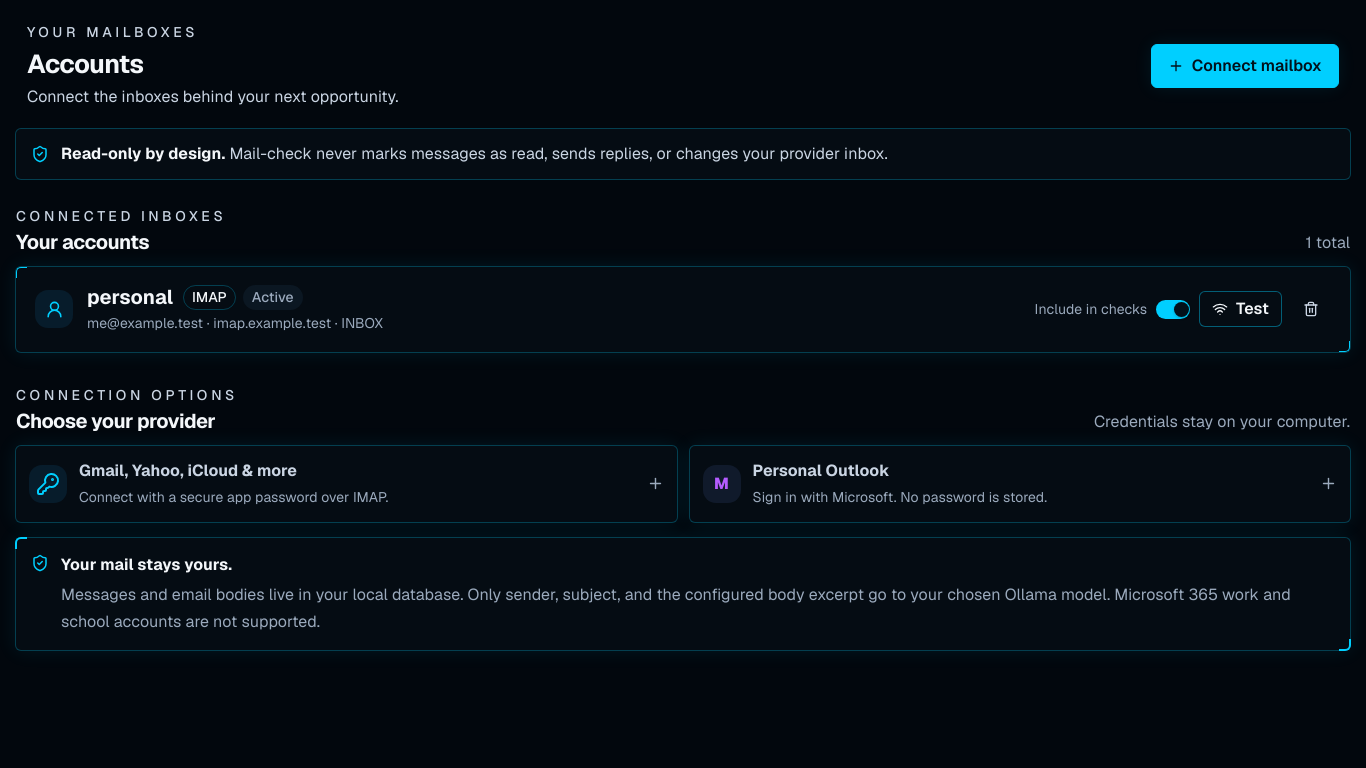
Test: updates inclusion state through the existing account toggle API
Click the switch named "Include personal in checks" at (1173, 309), box [1156, 300, 1190, 319]
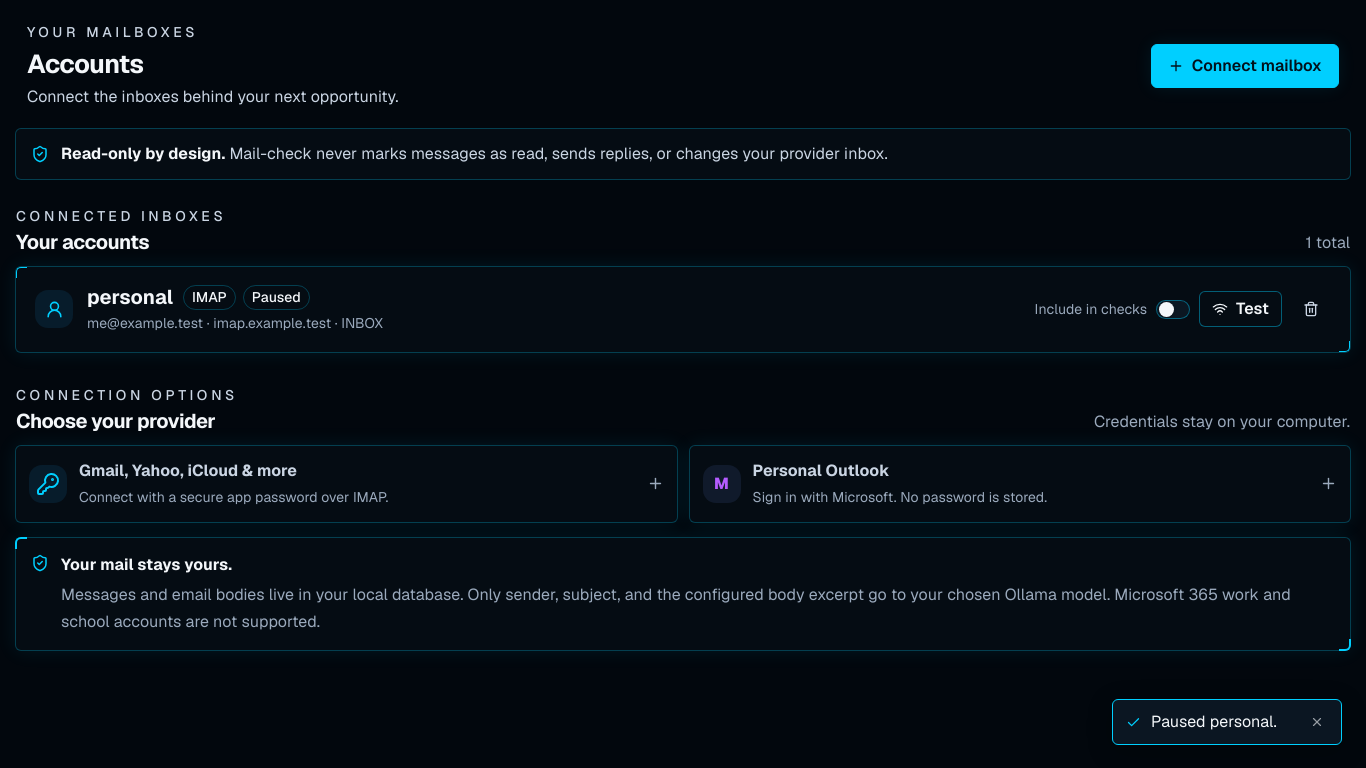
Expected: the text "Paused" is shown, [243, 285, 310, 310]
